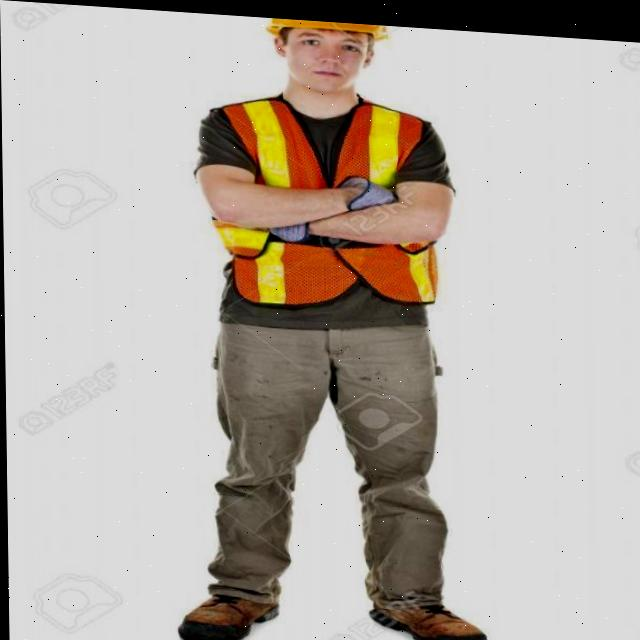Gloves: (338, 170, 396, 209)
Helmet: (265, 14, 388, 37)
Safety-Boot: (366, 593, 488, 640), (174, 588, 277, 640)
Safety-Vest: (206, 85, 439, 312)
